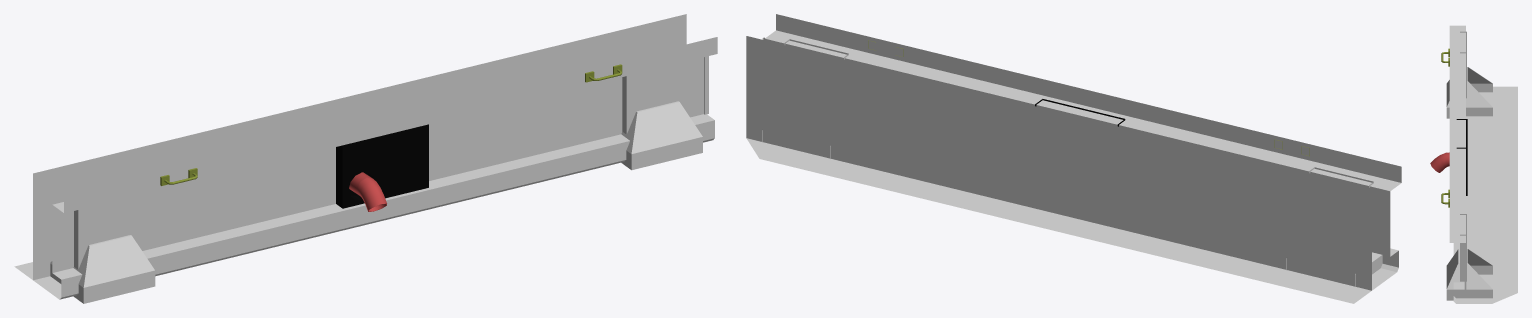
File: wallreup wall 1.FBX
The picture shows the model from 3 angles, left to right: view 1: azimuth 30°, elevation 25°; view 2: azimuth 150°, elevation 25°; view 3: azimuth 270°, elevation 25°; orthographic projection. The views are drawn at different scales.
Parts seen in each view (by area): view 1: Object1087; view 2: Object1087; view 3: Object1087.
Boxes of the visible parts, x1,y1,x2,y2 form: Object1087: (14,14,717,303); Object1087: (746,14,1401,303); Object1087: (1430,25,1517,303).
Size of the model in its own units: 8.02 by 1.29 by 1.37.
